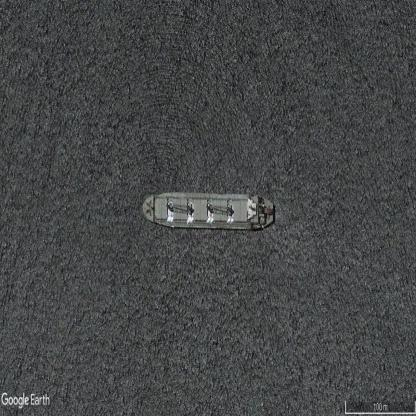ship: (142, 193, 274, 229)
